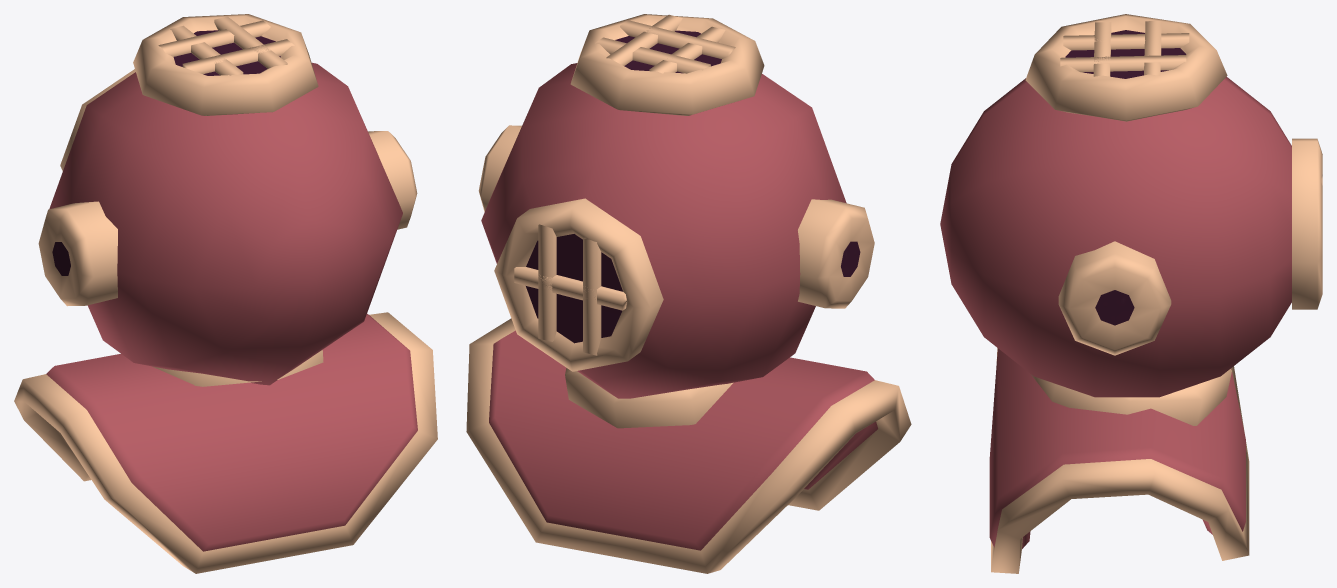
The model's file is DivingHelmet.fbx.
3 views of the same model, side by side, from view 1: azimuth 30°, elevation 25°; view 2: azimuth 150°, elevation 25°; view 3: azimuth 270°, elevation 25° (orthographic). The views are drawn at different scales.
Parts seen in each view (by area): view 1: DivingHelmet; view 2: DivingHelmet; view 3: DivingHelmet.
Boxes of the visible parts, x1,y1,x2,y2 form: DivingHelmet: [14, 14, 437, 573]; DivingHelmet: [466, 14, 911, 573]; DivingHelmet: [940, 14, 1322, 573].
Size of the model in its own units: 71.91 by 88.06 by 61.58.
